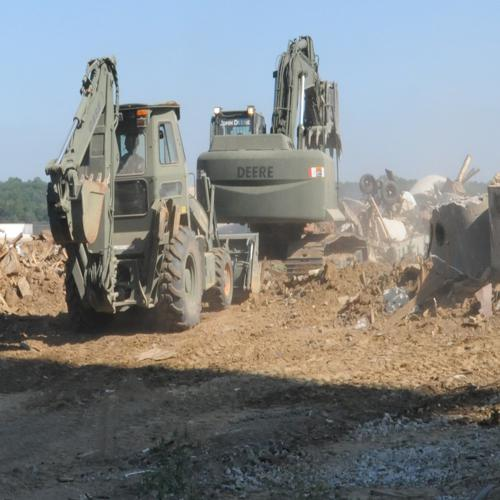con_eq: (44, 58, 263, 328), (199, 36, 347, 255)
